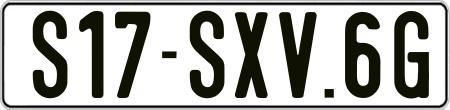1: (76, 8, 101, 100)
6: (343, 9, 381, 101)
7: (113, 11, 151, 102)
G: (394, 8, 429, 95)
S: (32, 8, 71, 101), (189, 11, 228, 100)
V: (276, 9, 318, 95)
X: (233, 12, 270, 98)
